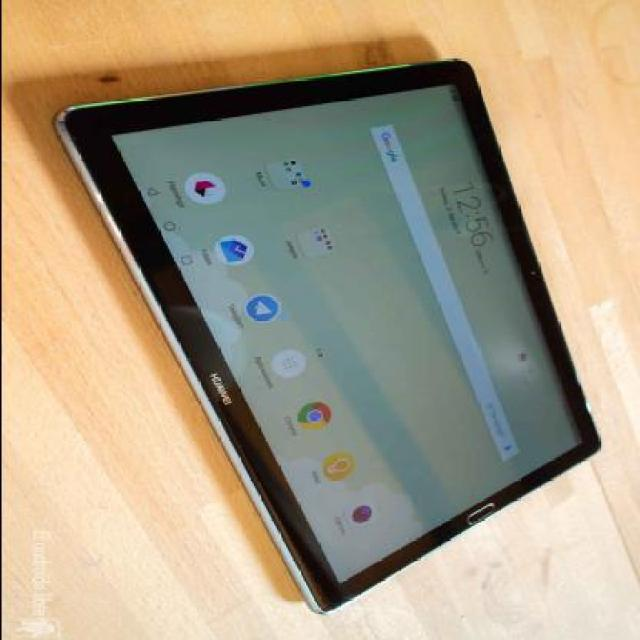tablet: (31, 87, 596, 614)
